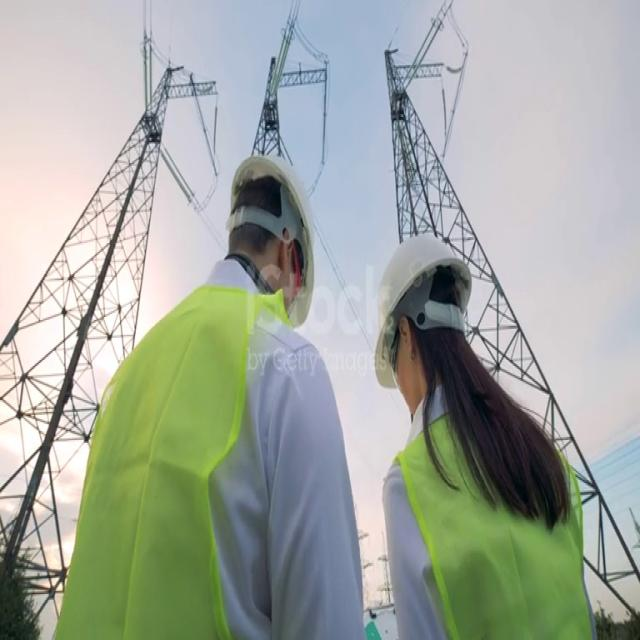capacete: (358, 215, 494, 397), (214, 136, 328, 328)
